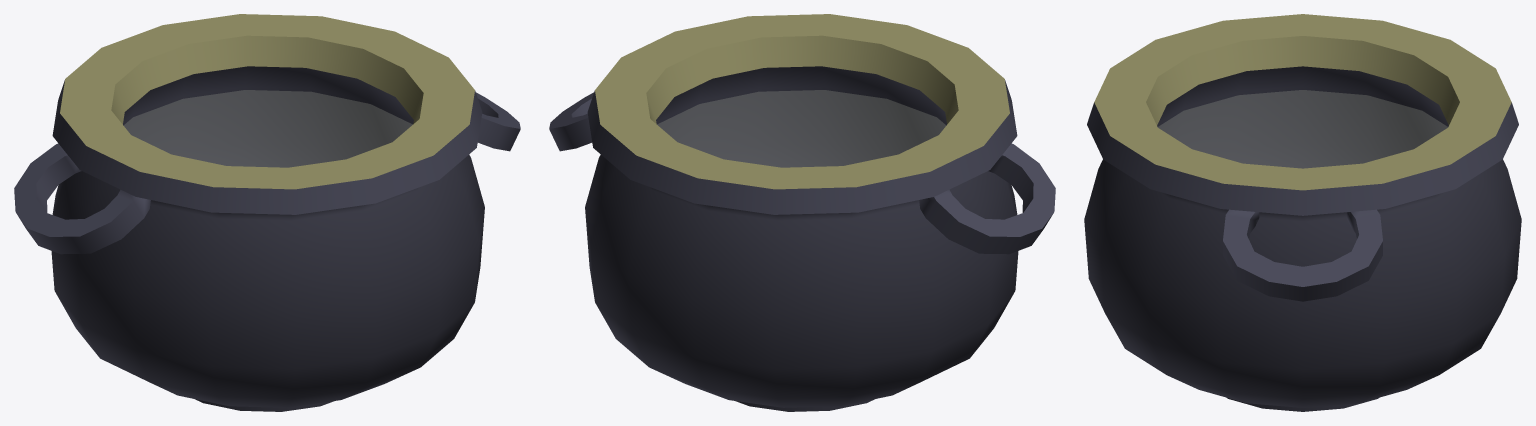
The model's file is prop_Cauldron.fbx.
3 views of the same model, side by side, from view 1: azimuth 30°, elevation 25°; view 2: azimuth 150°, elevation 25°; view 3: azimuth 270°, elevation 25° (orthographic).
Parts seen in each view (by area): view 1: cauldron, cauldron_substance, cauldronhandles; view 2: cauldron, cauldron_substance, cauldronhandles; view 3: cauldron, cauldron_substance, cauldronhandles.
Part boxes in pixels (x1,y1,x2,y2): cauldron: (51,14,484,411); cauldron_substance: (124,90,411,166); cauldronhandles: (14,92,520,254); cauldron: (585,14,1018,411); cauldron_substance: (658,90,945,166); cauldronhandles: (549,92,1055,254); cauldron: (1084,14,1521,411); cauldron_substance: (1158,90,1447,167); cauldronhandles: (1223,209,1382,301).
Bounding box in the file's own units: 51.44 × 27.24 × 40.75.
